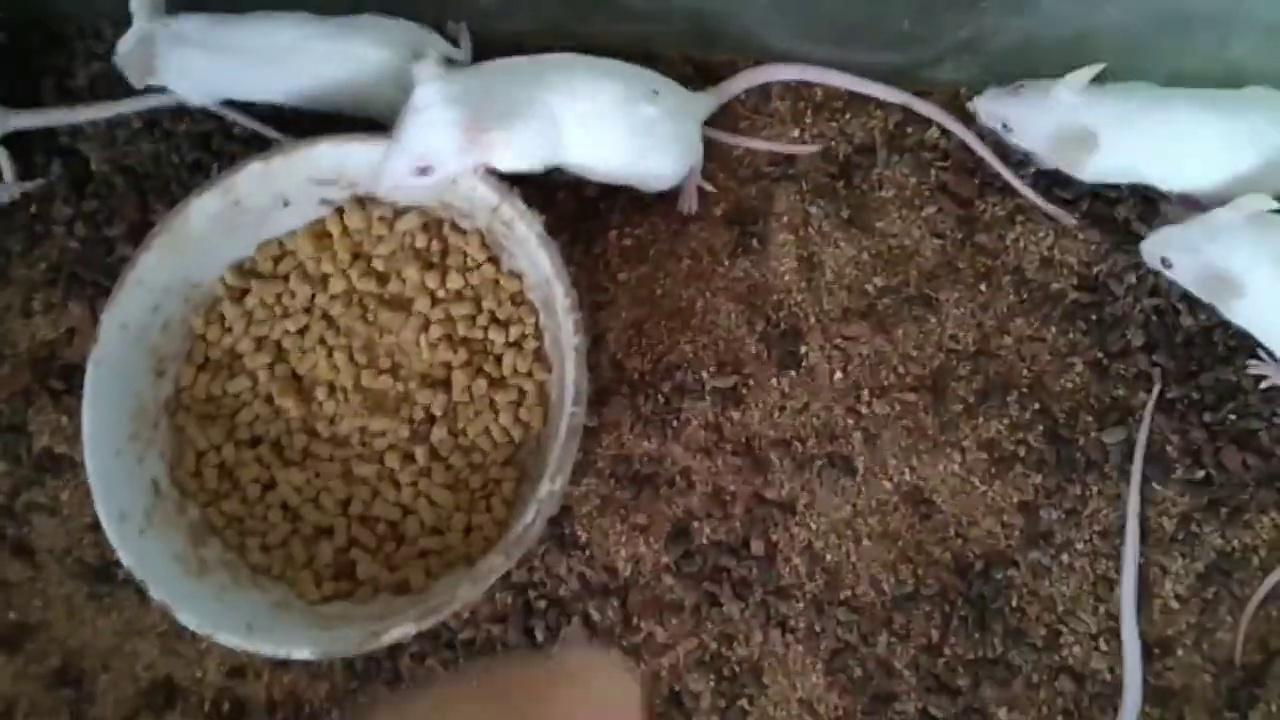rat: (383, 51, 1076, 225), (965, 65, 1280, 193), (110, 0, 472, 104), (1141, 198, 1280, 382)
